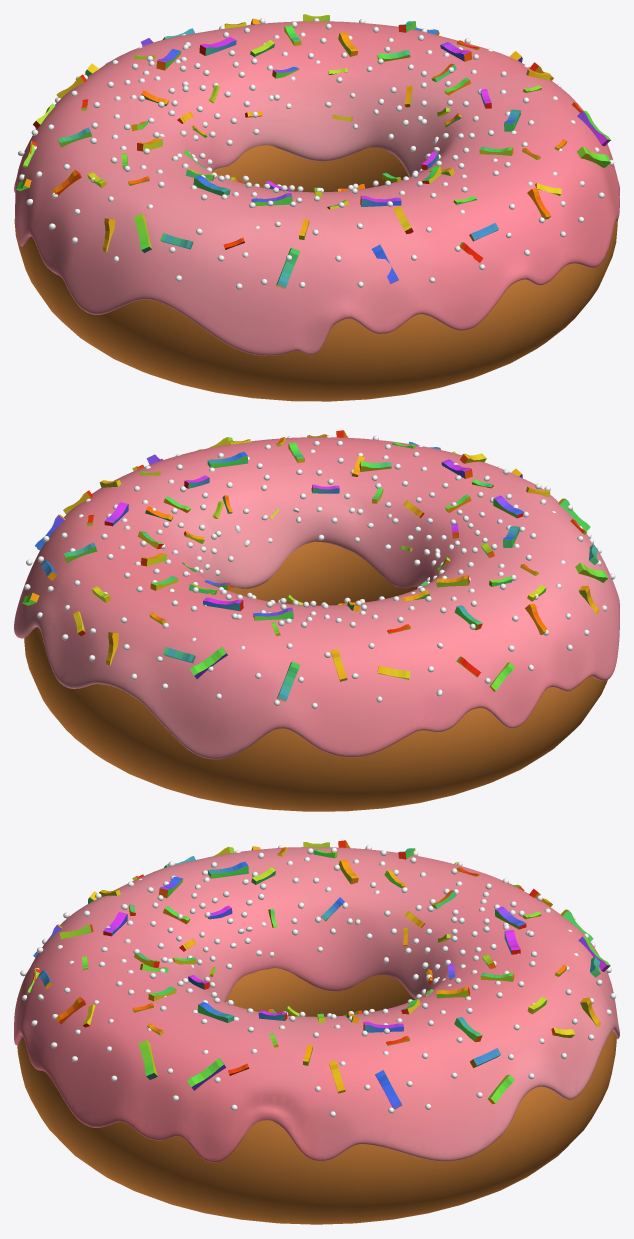
The model's file is donut.glb.
The picture shows the model from 3 angles, top to bottom: view 1: azimuth 30°, elevation 25°; view 2: azimuth 150°, elevation 25°; view 3: azimuth 270°, elevation 25°; orthographic projection.
Parts seen in each view (by area): view 1: Object_2, Object_4, Object_5, Object_16; view 2: Object_2, Object_4, Object_5, Object_16; view 3: Object_2, Object_4, Object_5, Object_16.
Part boxes in pixels (left/top/right/bottom): Object_2: left=14, top=21, right=619, bottom=355; Object_4: left=14, top=145, right=617, bottom=401; Object_5: left=16, top=14, right=610, bottom=288; Object_16: left=18, top=18, right=614, bottom=289; Object_2: left=14, top=437, right=619, bottom=759; Object_4: left=24, top=541, right=607, bottom=811; Object_5: left=22, top=430, right=608, bottom=701; Object_16: left=24, top=435, right=615, bottom=708; Object_2: left=14, top=847, right=619, bottom=1162; Object_4: left=17, top=968, right=616, bottom=1224; Object_5: left=26, top=840, right=610, bottom=1109; Object_16: left=20, top=843, right=616, bottom=1117.
Size of the model in its own units: 2.98 by 1.04 by 2.98.
Materials: 4 (2 with a texture image).
